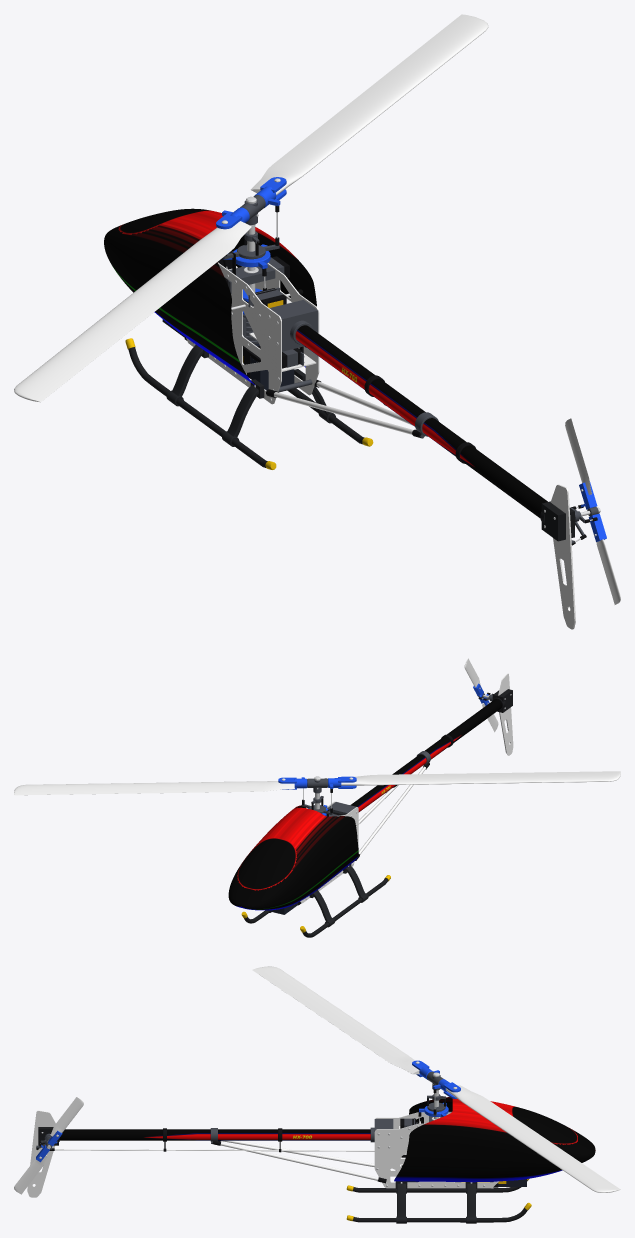
The model's file is heli.glb.
The picture shows the model from 3 angles, top to bottom: view 1: azimuth 30°, elevation 25°; view 2: azimuth 150°, elevation 25°; view 3: azimuth 270°, elevation 25°; orthographic projection. The views are drawn at different scales.
Visible parts, largest first — view 1: Carenado, Pala_Principal_A, Pala_Principal_B, Botalon_Carbono, Chasis_Placas_Carbono, Tren_de_Aterrizaje, Rotor_Cabeza, Chasis_Bloques_Aluminio, Aleta_Vertical, Soportes_Botalon, Caja_Cola; view 2: Carenado, Pala_Principal_B, Pala_Principal_A, Botalon_Carbono, Tren_de_Aterrizaje, Rotor_Cabeza, Soportes_Botalon, Aleta_Vertical; view 3: Carenado, Botalon_Carbono, Pala_Principal_B, Pala_Principal_A, Chasis_Placas_Carbono, Tren_de_Aterrizaje, Soportes_Botalon, Aleta_Vertical, Rotor_Cabeza, Servo_Cola_y_Varilla, Pala_Cola_A, Pala_Cola_B.
Boxes of the visible parts, x1,y1,x2,y2 form: Carenado: (104,208,316,385); Pala_Principal_A: (14,221,251,402); Pala_Principal_B: (251,14,488,195); Botalon_Carbono: (295,325,547,517); Chasis_Placas_Carbono: (186,251,319,404); Tren_de_Aterrizaje: (125,338,373,469); Rotor_Cabeza: (216,177,286,259); Chasis_Bloques_Aluminio: (229,265,318,392); Aleta_Vertical: (550,484,575,629); Soportes_Botalon: (266,380,438,438); Caja_Cola: (540,501,600,545); Carenado: (228,805,358,910); Pala_Principal_B: (14,781,294,795); Pala_Principal_A: (341,771,620,785); Botalon_Carbono: (350,699,502,812); Tren_de_Aterrizaje: (241,864,390,937); Rotor_Cabeza: (278,776,356,814); Soportes_Botalon: (355,751,430,860); Aleta_Vertical: (498,673,513,755); Carenado: (394,1097,595,1182); Botalon_Carbono: (59,1129,370,1140); Pala_Principal_B: (446,1085,620,1192); Pala_Principal_A: (252,966,419,1074); Chasis_Placas_Carbono: (374,1112,498,1188); Tren_de_Aterrizaje: (346,1170,531,1223); Soportes_Botalon: (210,1128,386,1183); Aleta_Vertical: (27,1110,55,1197); Rotor_Cabeza: (412,1060,460,1116); Servo_Cola_y_Varilla: (49,1128,374,1152); Pala_Cola_A: (50,1097,83,1136); Pala_Cola_B: (14,1155,47,1194).
Bounding box in the file's own units: 1.3 × 0.3623 × 1.48.
Materials: 18 (2 with a texture image).
